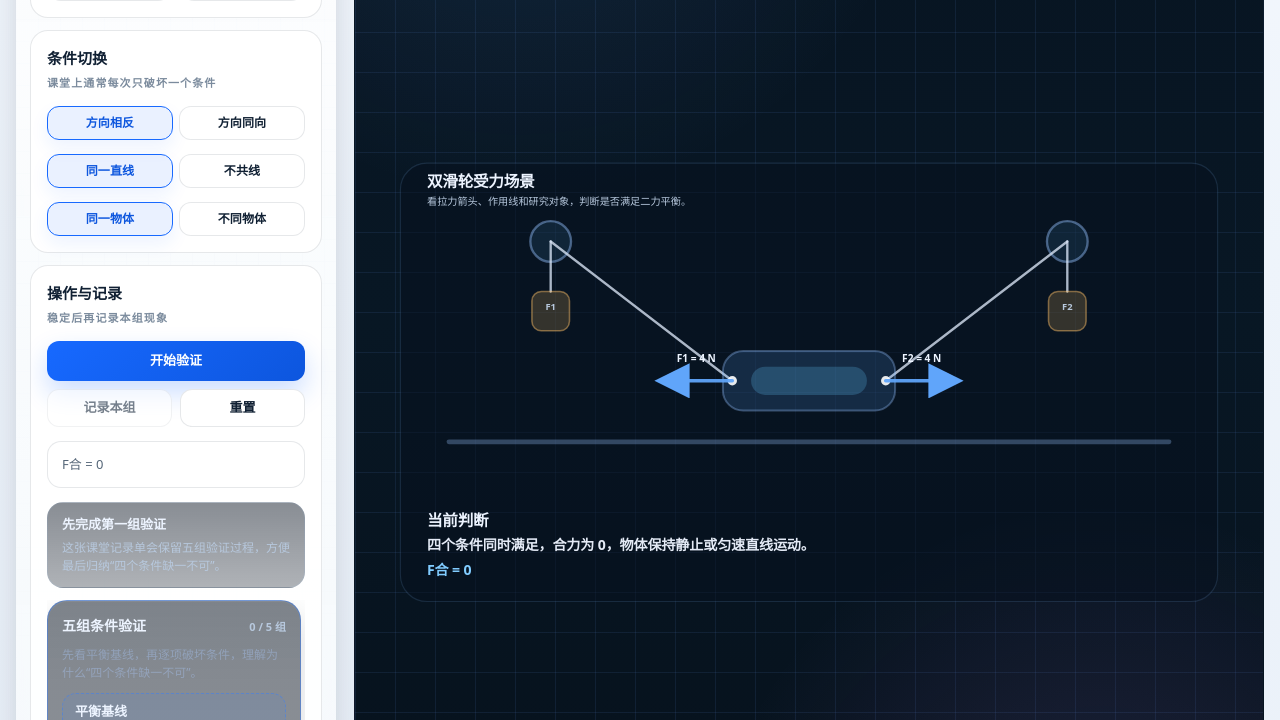
Test case: TwoForceBalanceLab › records the current step and advances to the next preset
(page scrolled)
Click the button "开始验证".
click(176, 361)  # box [47, 341, 305, 381]
Wait 1200 ms
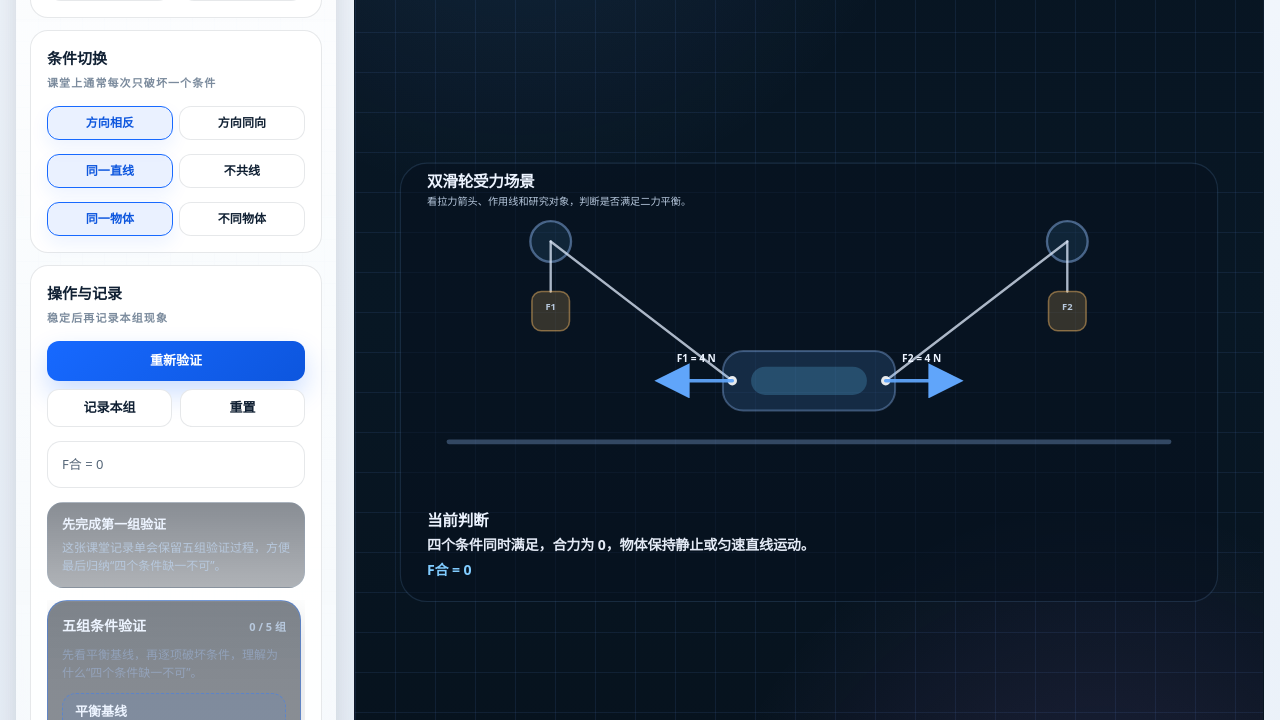
Click the button "记录本组".
click(110, 408)  # box [47, 389, 172, 427]
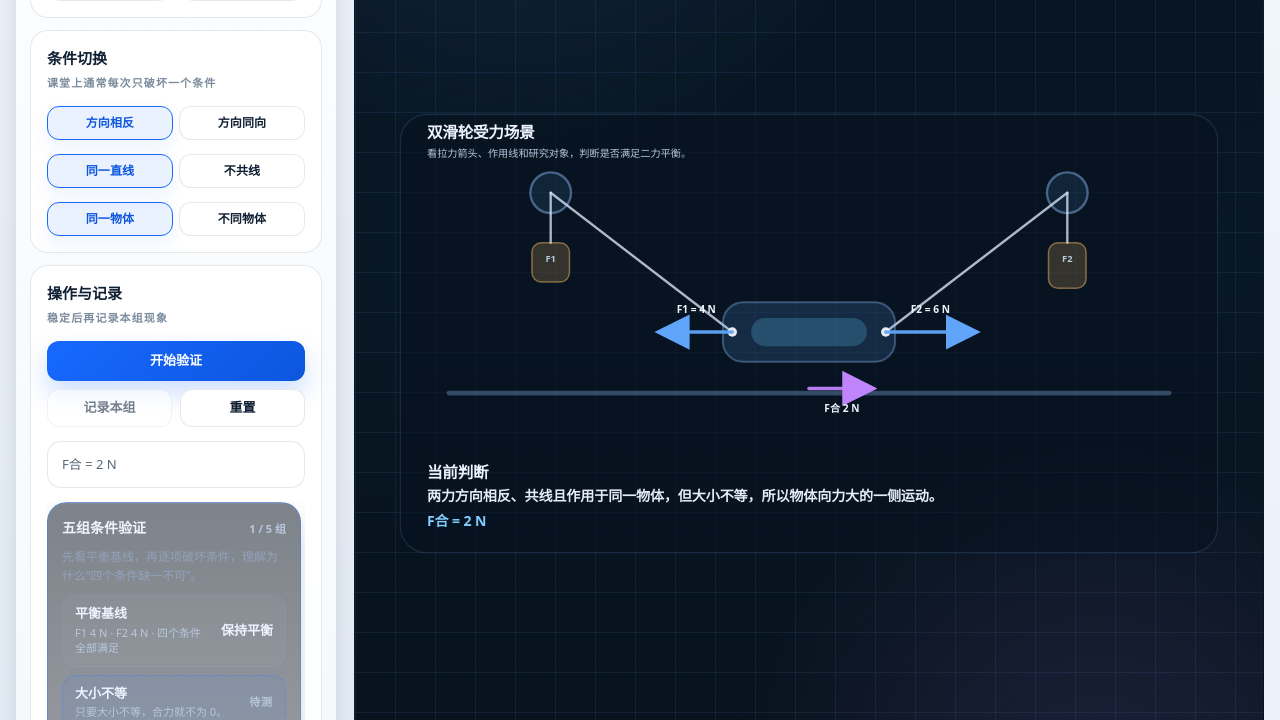
Check: the text "1 / 5 组" is shown, box [249, 521, 286, 538]
Check: the button "记录本组" is disabled, box [47, 389, 172, 427]
